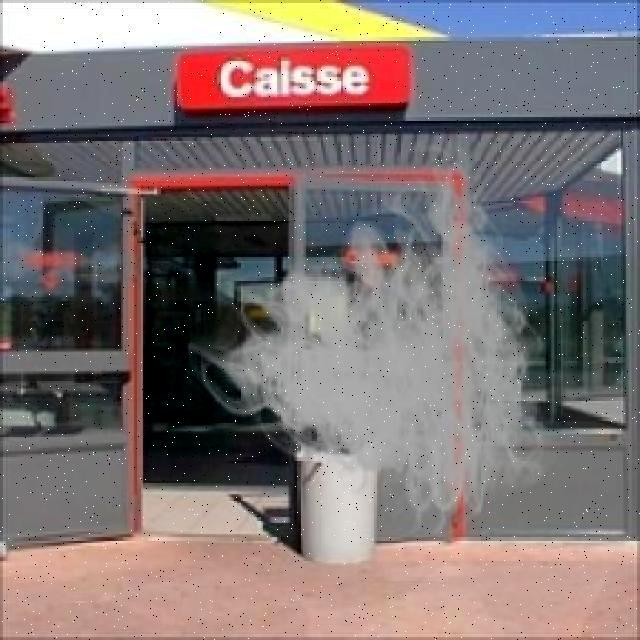Smoke: (212, 203, 568, 534)
